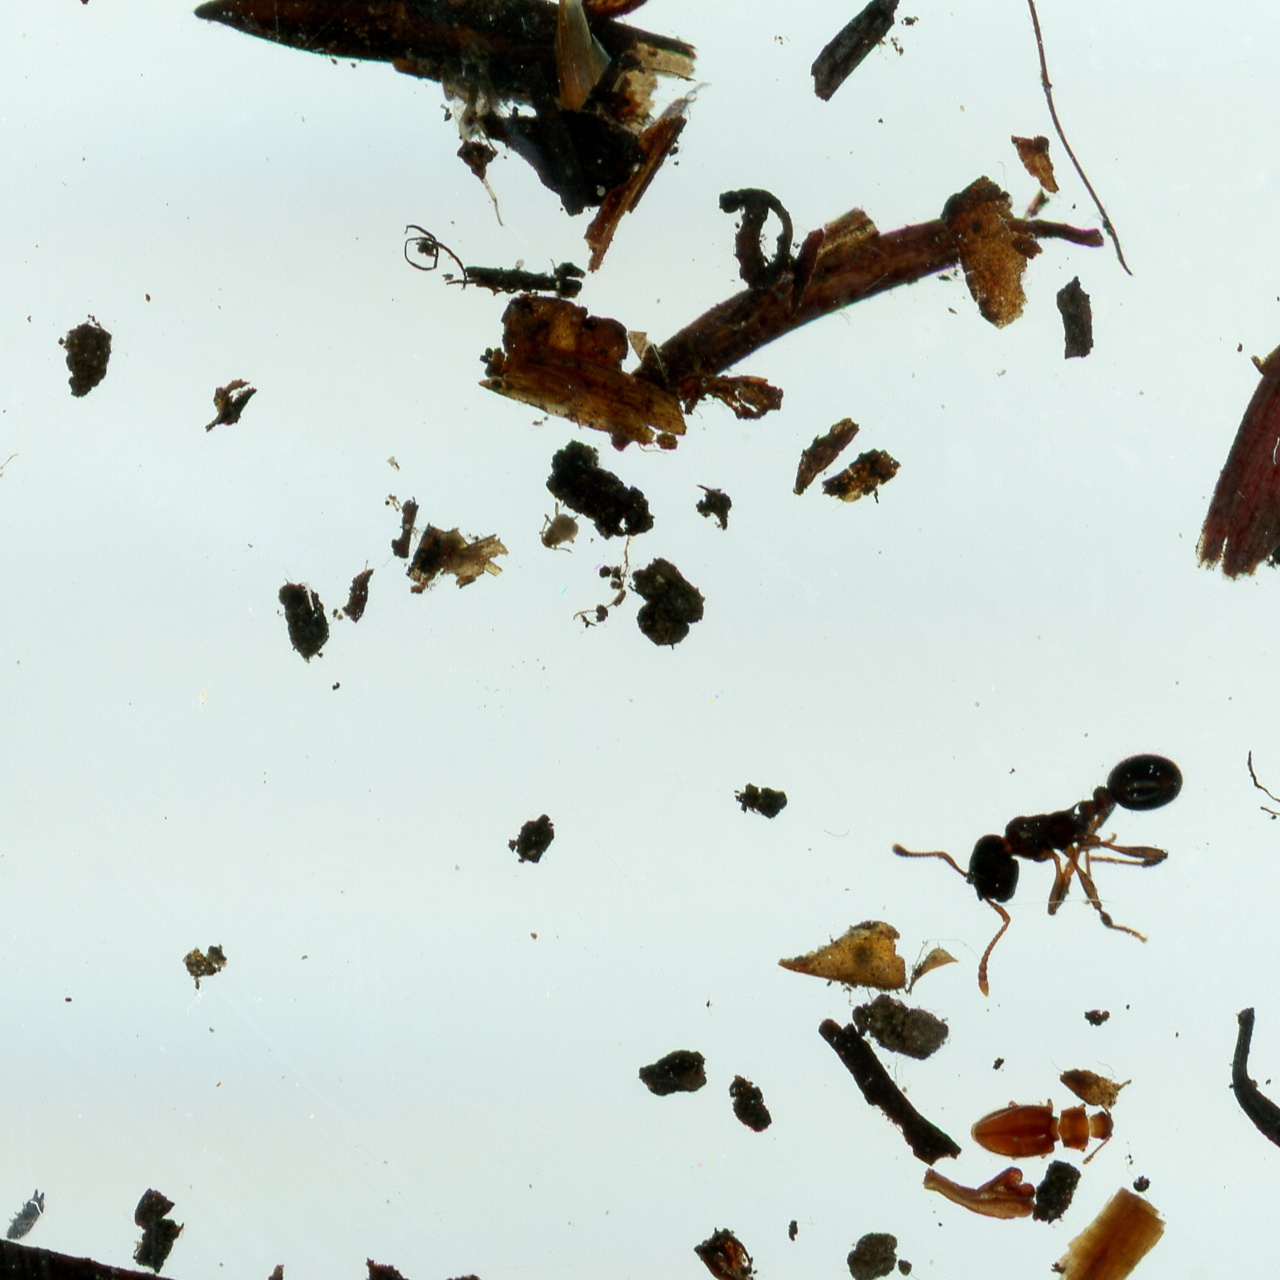arthropod: (883, 719, 1252, 1029), (965, 1092, 1117, 1169), (653, 64, 720, 138), (0, 1180, 55, 1252), (536, 499, 581, 557)
